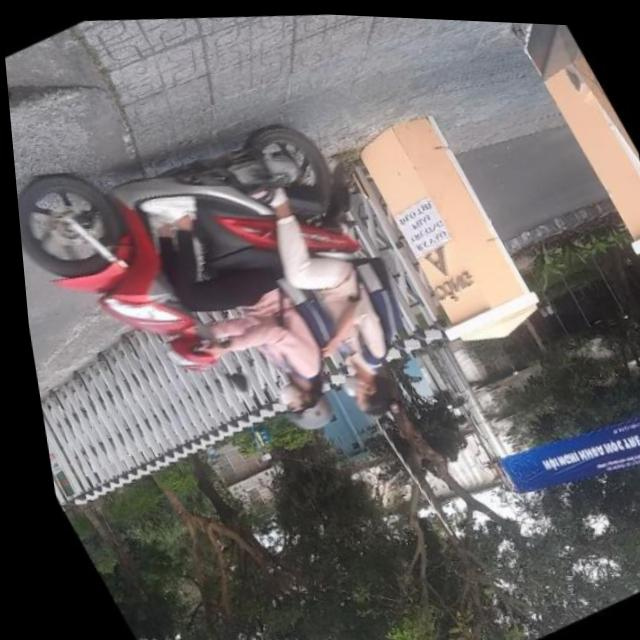WITH_HELMET: (271, 385, 331, 439)
